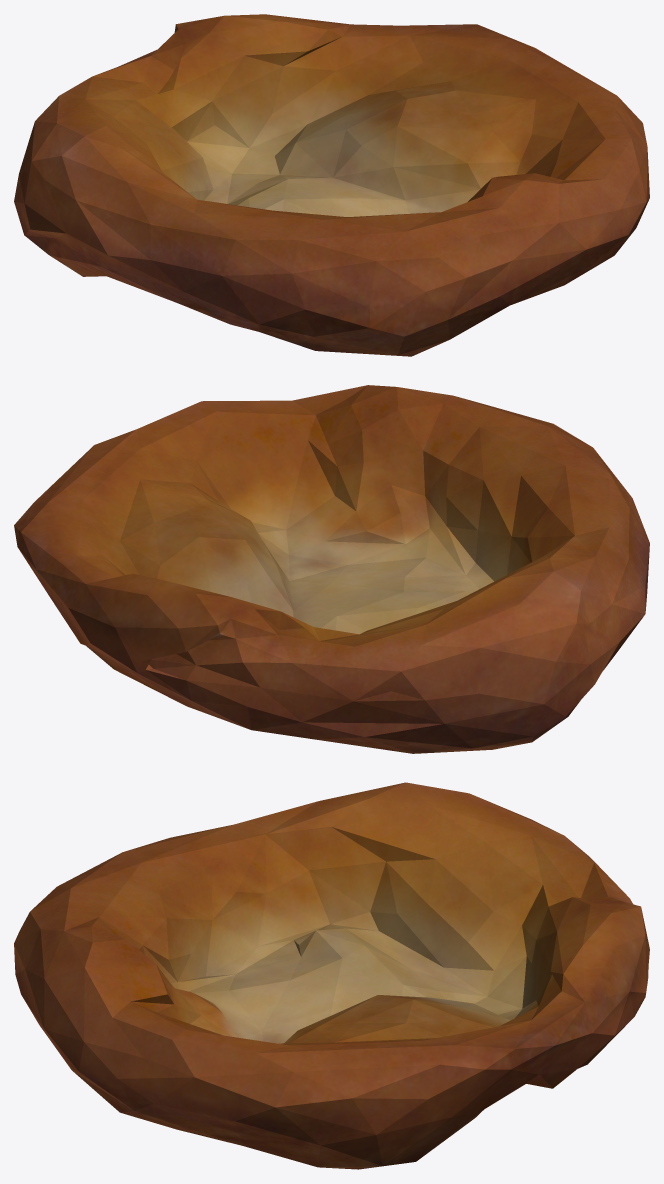
Rendered from F8CACAA8-AE88-674A-8442-222023A4E457_512.glb.
3 renders of one model, top to bottom at view 1: azimuth 30°, elevation 25°; view 2: azimuth 150°, elevation 25°; view 3: azimuth 270°, elevation 25°, orthographic. The views are drawn at different scales.
Parts seen in each view (by area): view 1: _0.8k_0.5k; view 2: _0.8k_0.5k; view 3: _0.8k_0.5k.
Part boxes in pixels (x1,y1,x2,y2): _0.8k_0.5k: [14, 14, 649, 356]; _0.8k_0.5k: [14, 385, 649, 753]; _0.8k_0.5k: [14, 782, 649, 1169].
Size of the model in its own units: 0.1137 by 0.0316 by 0.1082.
1 material, 1 textured.
